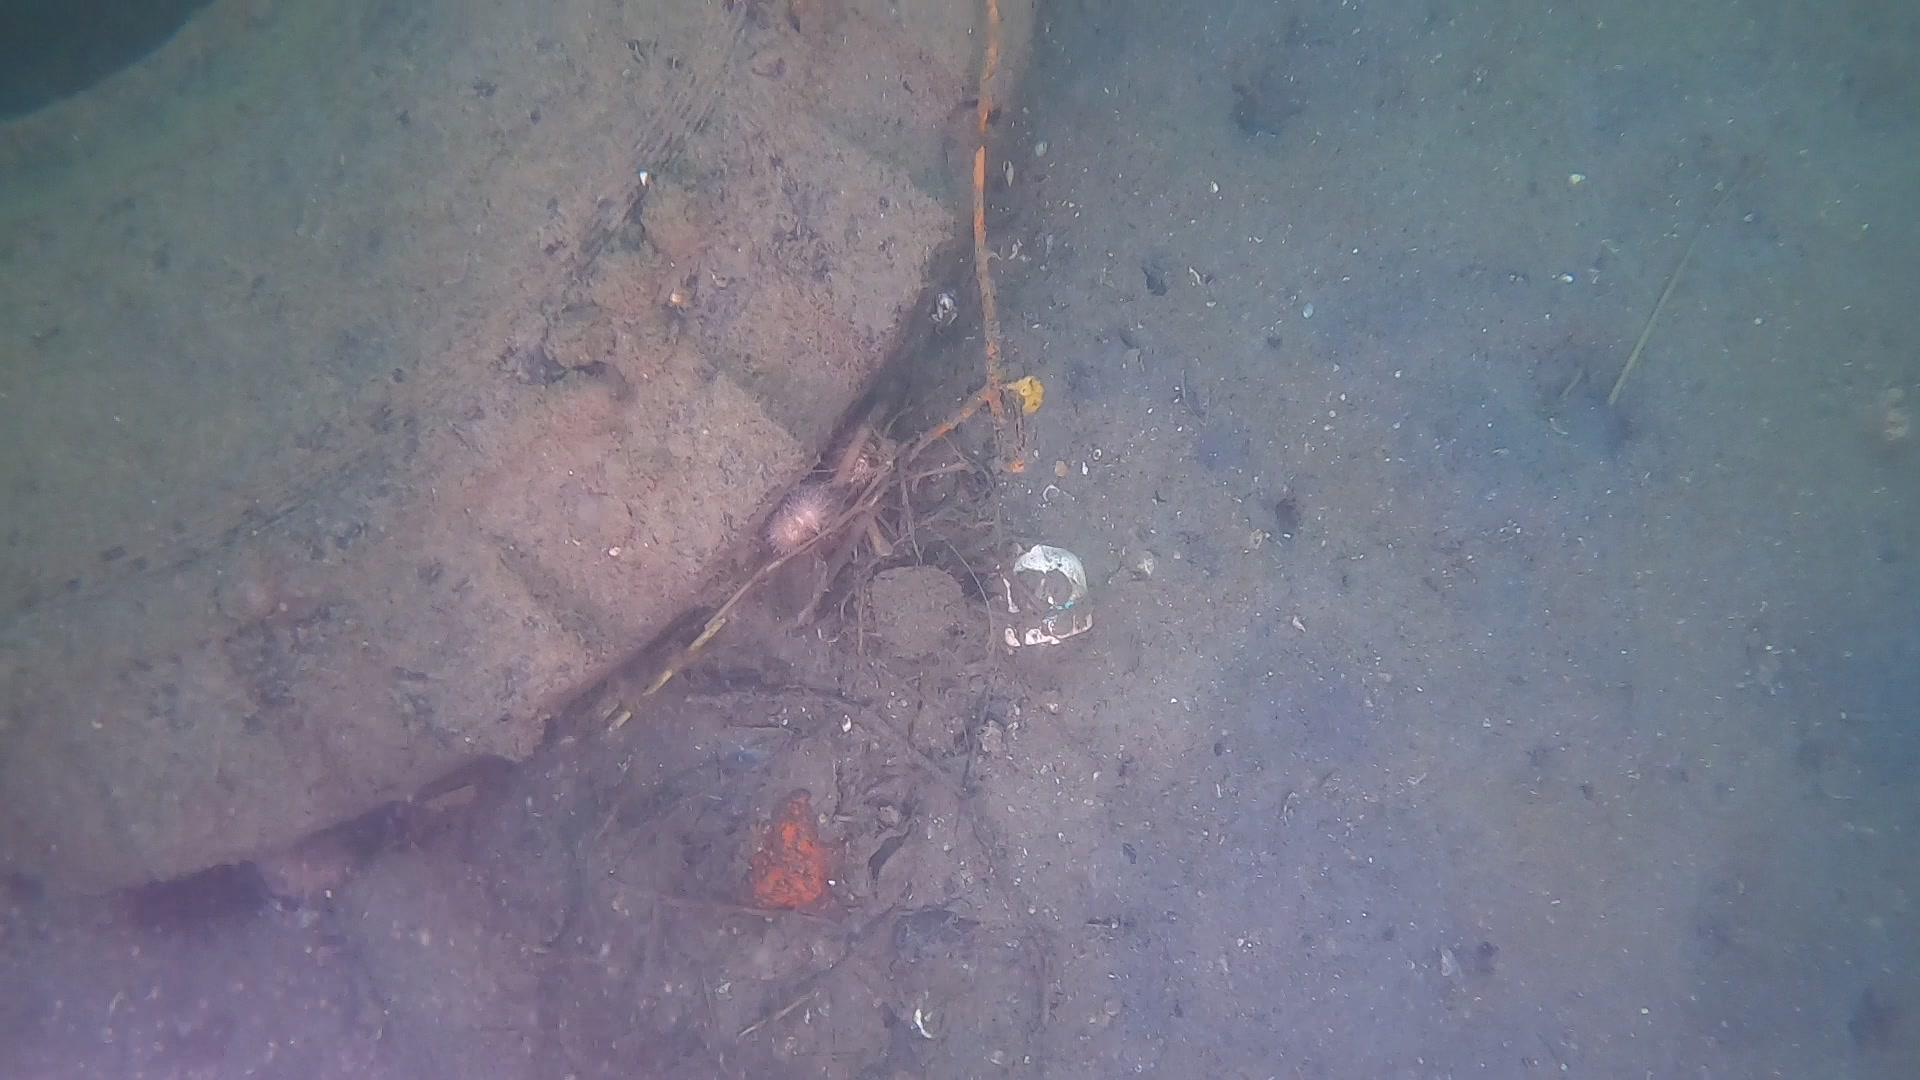tire: (0, 0, 1035, 895)
